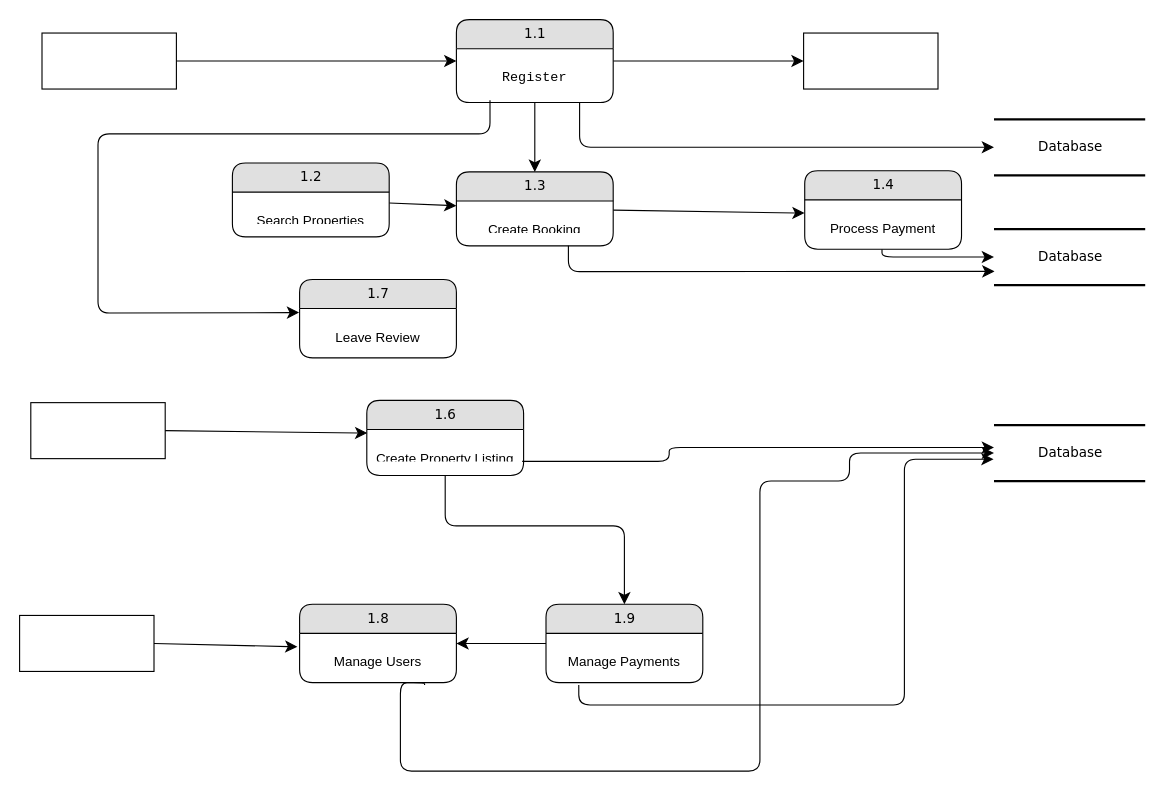
This 1166x802 diagram has some shape labels left out. The centre of each missing label's shape, as x and y in pixels:
"Admin" belongs at (x=86, y=642).
"Guest" belongs at (x=108, y=60).
"Host" belongs at (x=97, y=430).
"Output" belongs at (x=870, y=60).
